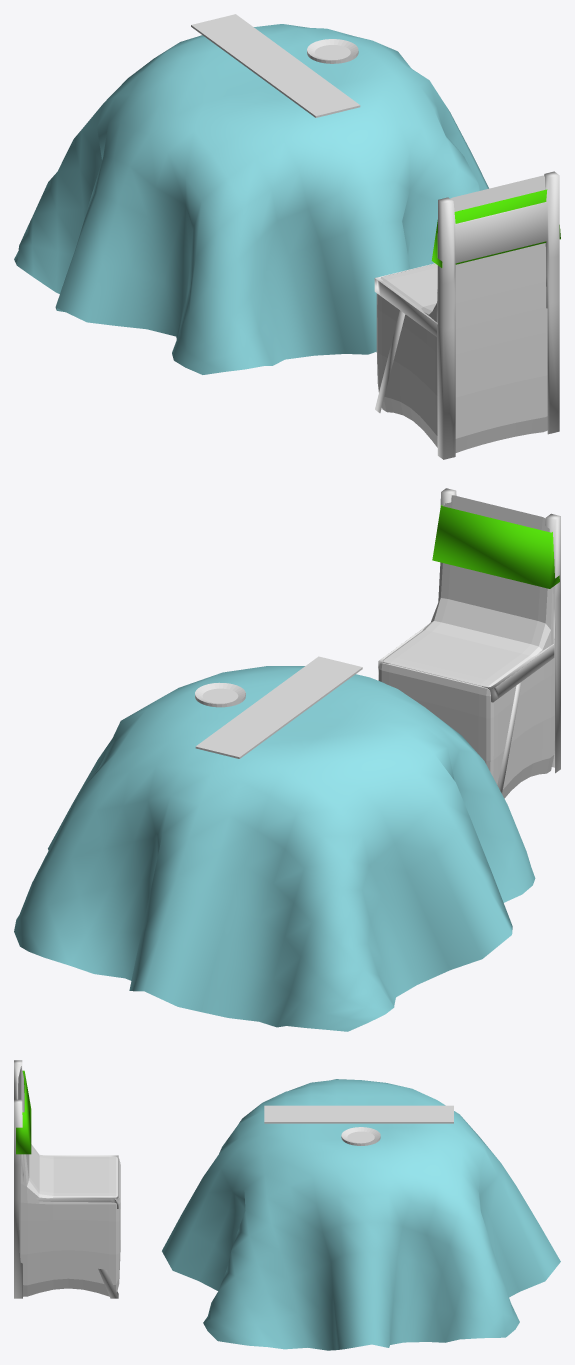
File: PFScene7.gltf
3 views of the same model, one above another, from view 1: azimuth 30°, elevation 25°; view 2: azimuth 150°, elevation 25°; view 3: azimuth 270°, elevation 25° (orthographic). The views are drawn at different scales.
Parts seen in each view (by area): view 1: TableCloth, Chair.001, BasicChair, TableRunner, ChairRunner, Plate; view 2: TableCloth, Chair.001, ChairRunner, TableRunner, BasicChair, Plate; view 3: TableCloth, Chair.001, TableRunner, BasicChair, ChairRunner, Plate.
Part boxes in pixels (left/top/right/bottom): TableCloth: left=14, top=24, right=488, bottom=374; Chair.001: left=376, top=175, right=547, bottom=452; BasicChair: left=374, top=171, right=559, bottom=459; TableRunner: left=191, top=14, right=360, bottom=117; ChairRunner: left=431, top=189, right=560, bottom=267; Plate: left=307, top=39, right=358, bottom=63; TableCloth: left=14, top=666, right=535, bottom=1031; Chair.001: left=378, top=495, right=554, bottom=798; ChairRunner: left=432, top=505, right=559, bottom=588; TableRunner: left=195, top=656, right=362, bottom=758; BasicChair: left=378, top=488, right=560, bottom=793; Plate: left=195, top=682, right=245, bottom=707; TableCloth: left=162, top=1079, right=560, bottom=1350; Chair.001: left=18, top=1066, right=120, bottom=1296; TableRunner: left=264, top=1105, right=453, bottom=1123; BasicChair: left=14, top=1060, right=118, bottom=1298; ChairRunner: left=16, top=1070, right=31, bottom=1154; Plate: left=341, top=1127, right=380, bottom=1145.
Size of the model in its own units: 152 by 90.34 by 209.
